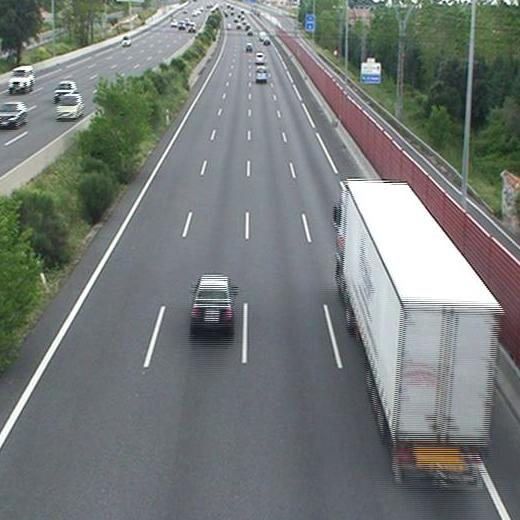car: (191, 277, 234, 329), (255, 53, 265, 63)
truck: (337, 180, 500, 485)
van: (255, 66, 267, 82)
